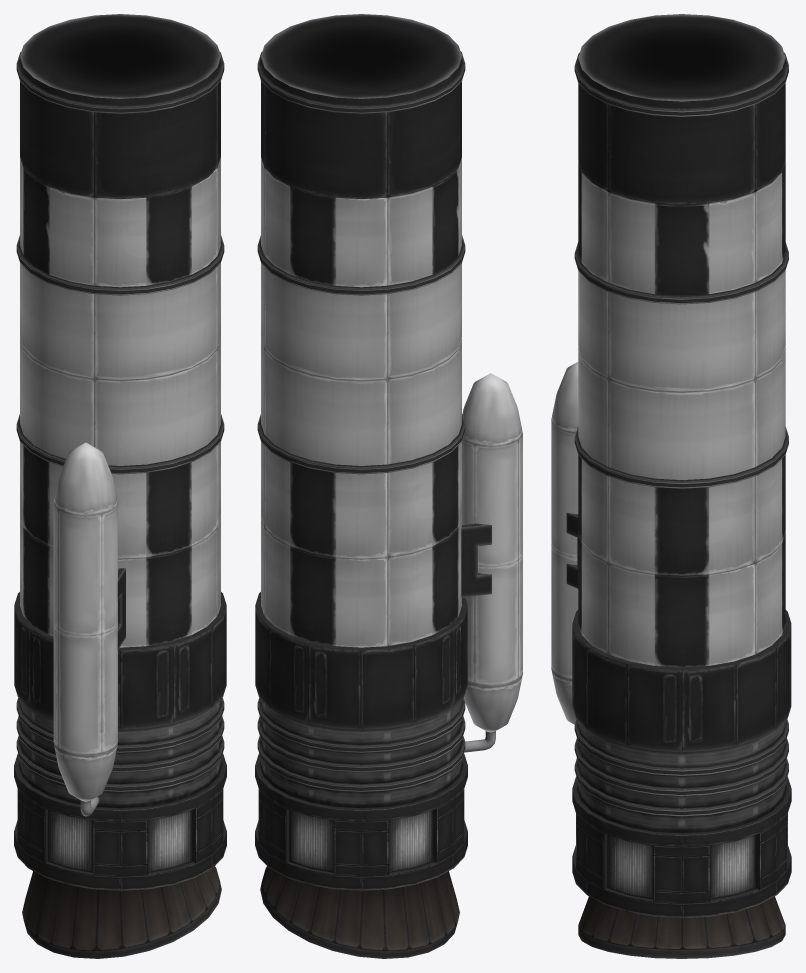
Rendered from Titan_SRB_2seg.dae.
The picture shows the model from 3 angles, left to right: view 1: azimuth 30°, elevation 25°; view 2: azimuth 150°, elevation 25°; view 3: azimuth 270°, elevation 25°; orthographic projection. The views are drawn at different scales.
Parts seen in each view (by area): view 1: SRB_2secMerge; view 2: SRB_2secMerge; view 3: SRB_2secMerge.
Part boxes in pixels (x1,y1,x2,y2): SRB_2secMerge: (14,14,226,958); SRB_2secMerge: (255,14,522,958); SRB_2secMerge: (551,14,791,958).
Bounding box in the file's own units: 2.17 × 8.93 × 2.17.
